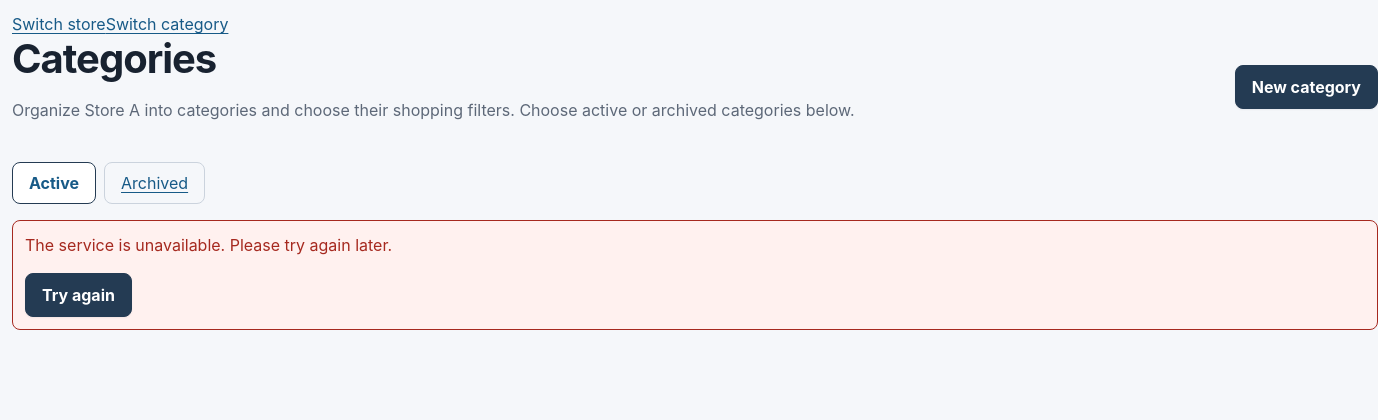
focused categories › distinguishes read errors from empty categories and lets the read retry
This screenshot has width=1378, height=420.
Check: the message "The service is unavailable. Please try again later. Try again" is shown, box [12,220,1377,330]
Check: the text "No active categories yet" is not shown
Click the button "Try again": (78, 295) [25,273,132,317]
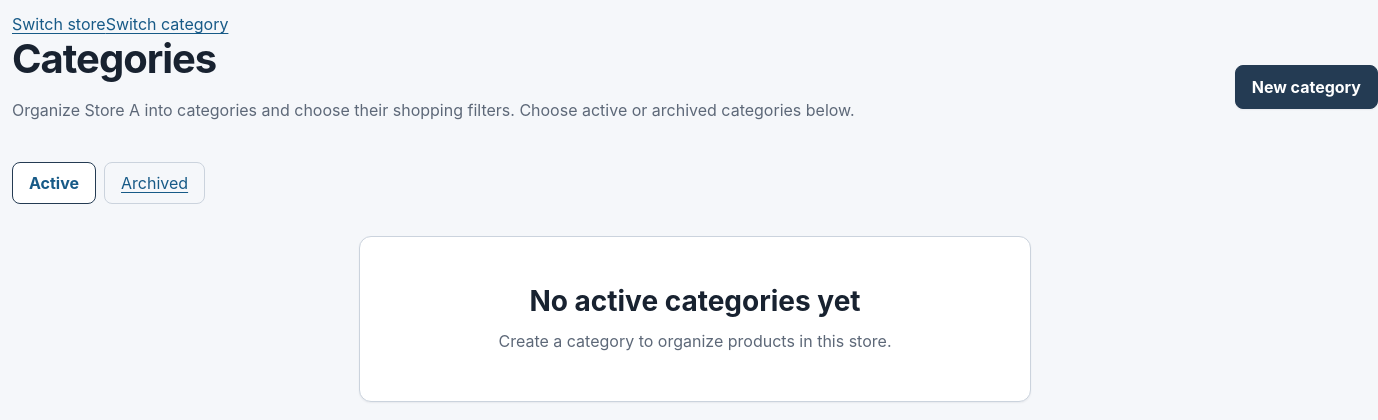
Check: the heading "No active categories yet" is shown, box [529,284,861,318]
